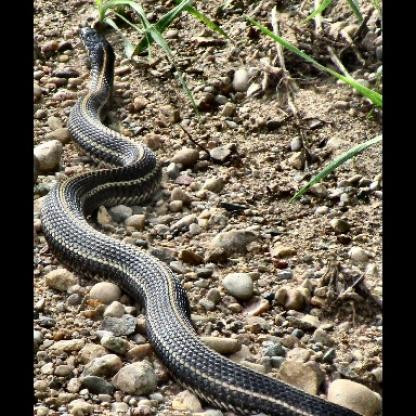Snake: (45, 28, 347, 414)
